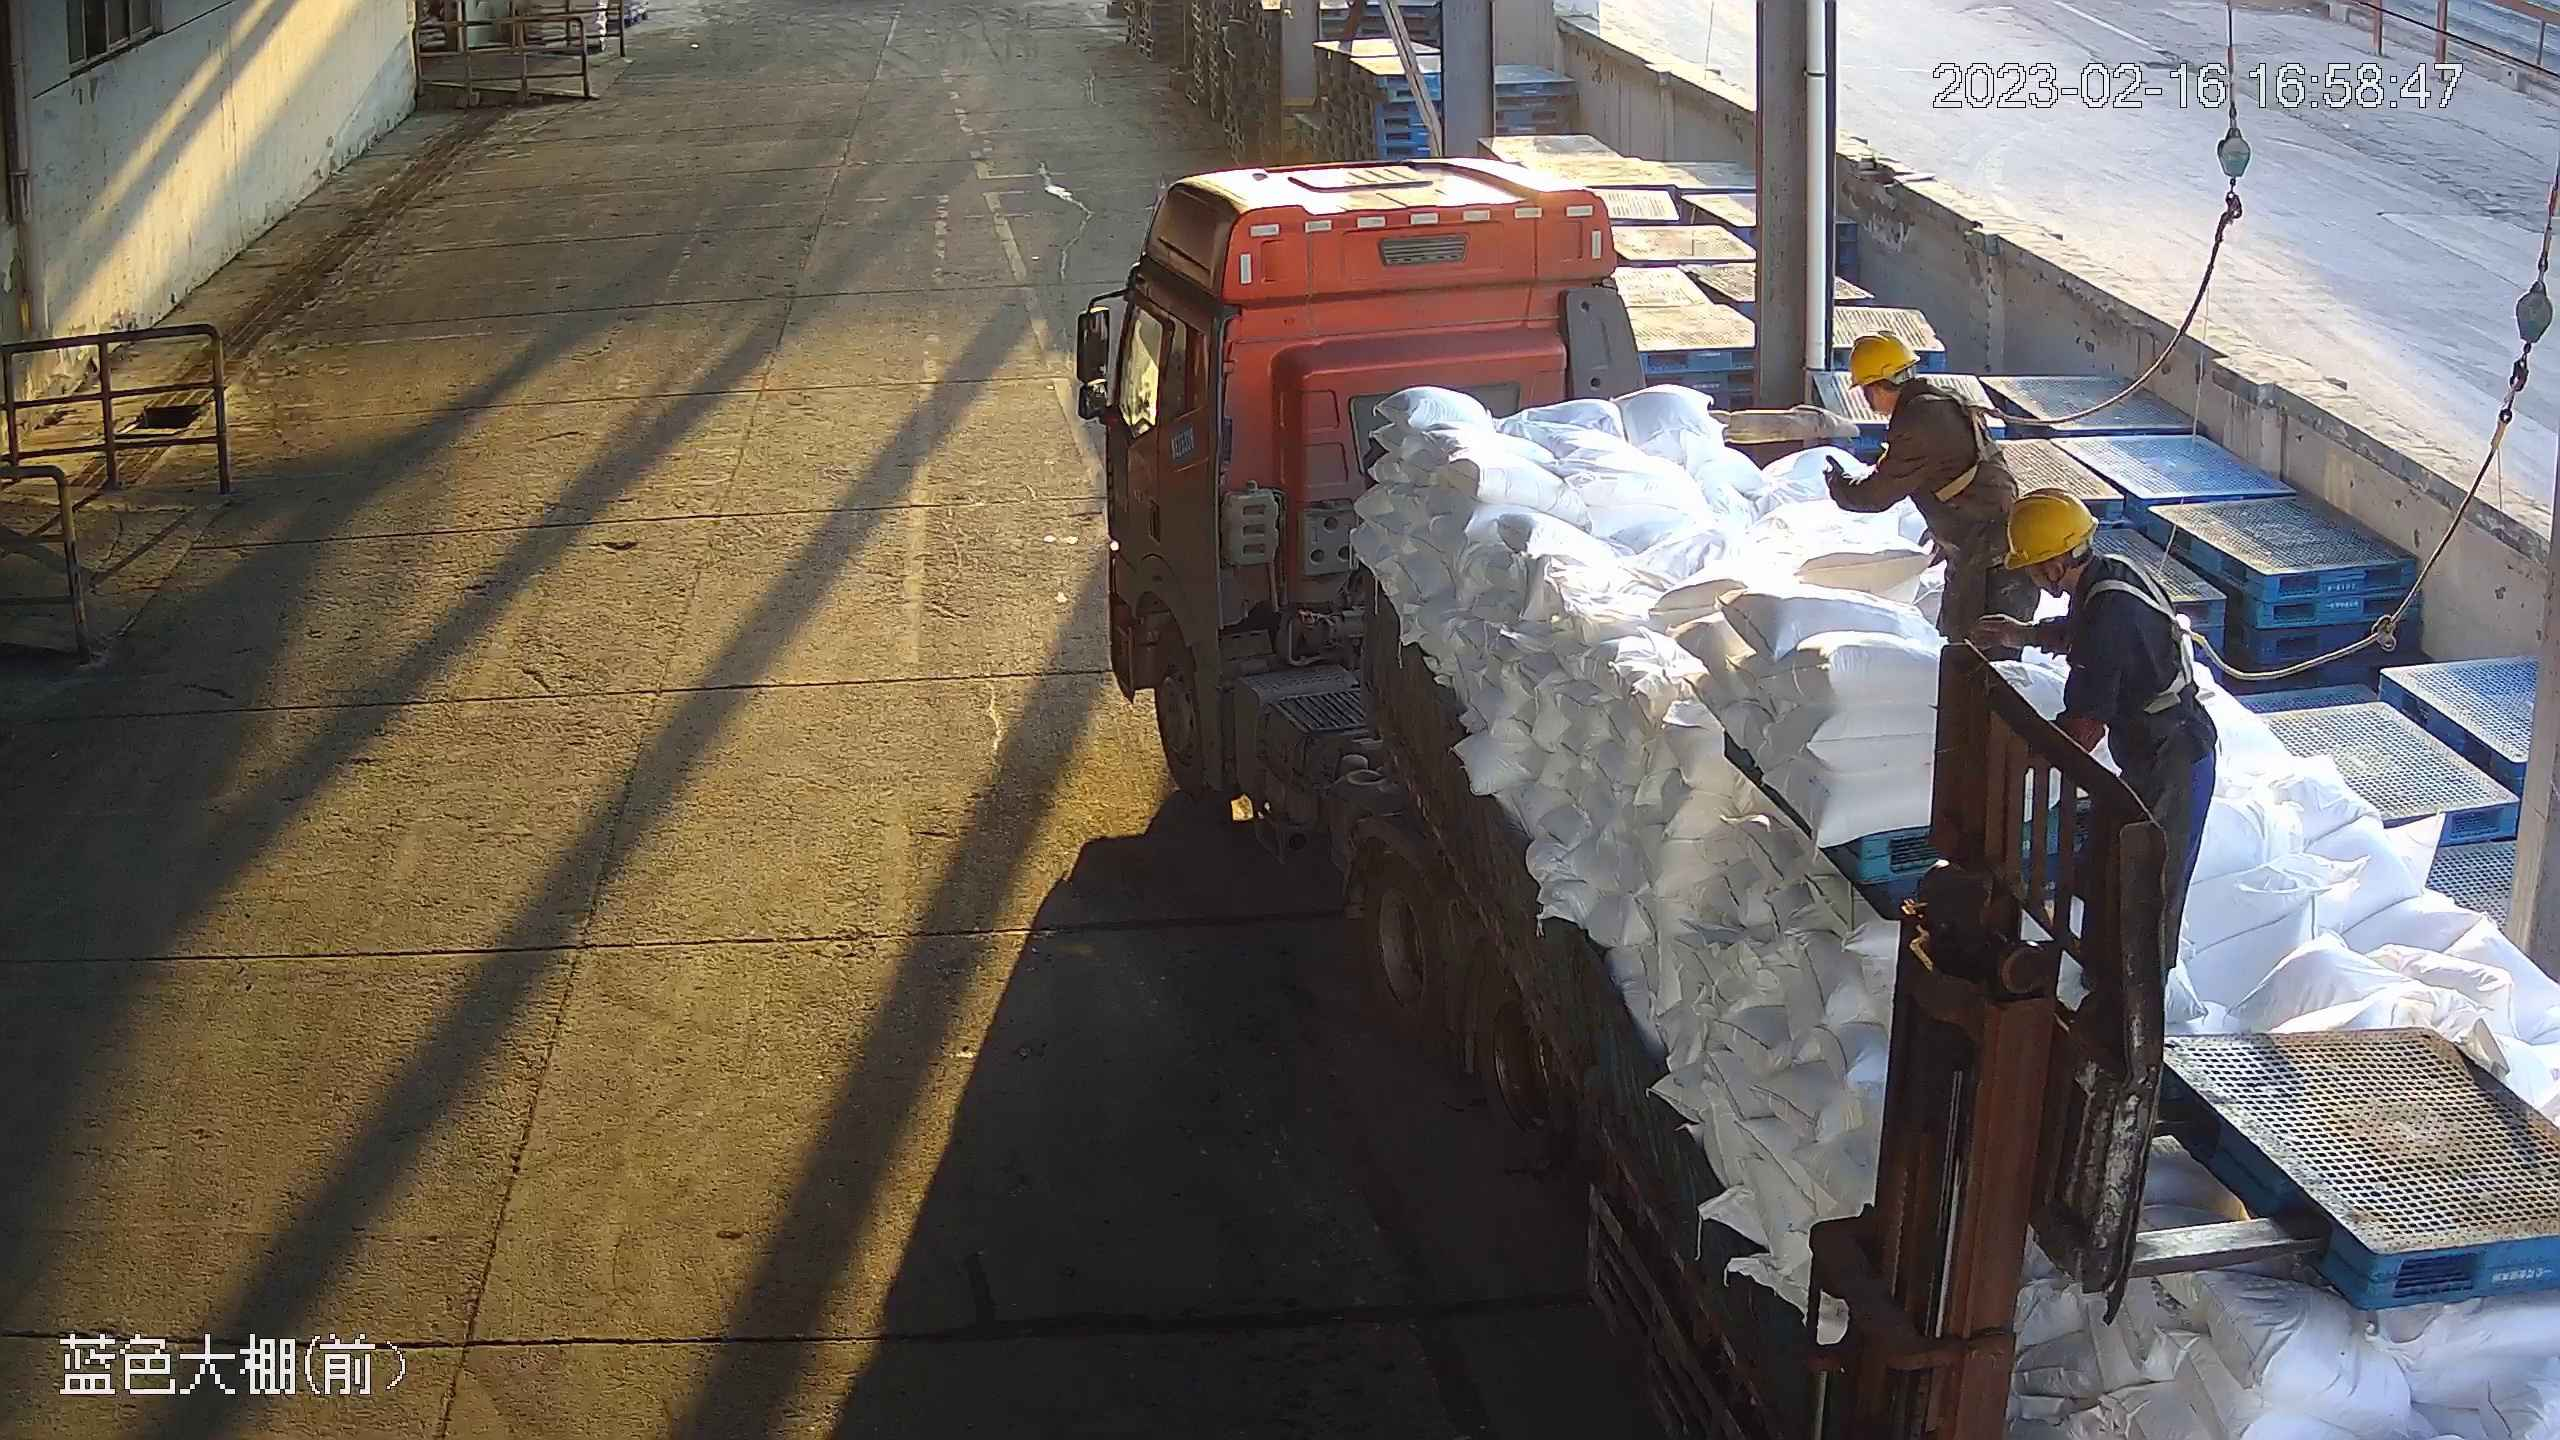belt: (2095, 571, 2216, 718), (1909, 387, 2028, 502)
head: (2006, 492, 2170, 639), (1849, 337, 1974, 448)
helmet: (2002, 490, 2099, 571), (1842, 330, 1928, 388)
people: (1972, 485, 2225, 1030), (1821, 337, 2046, 674)
truck: (1069, 148, 2560, 1440)
